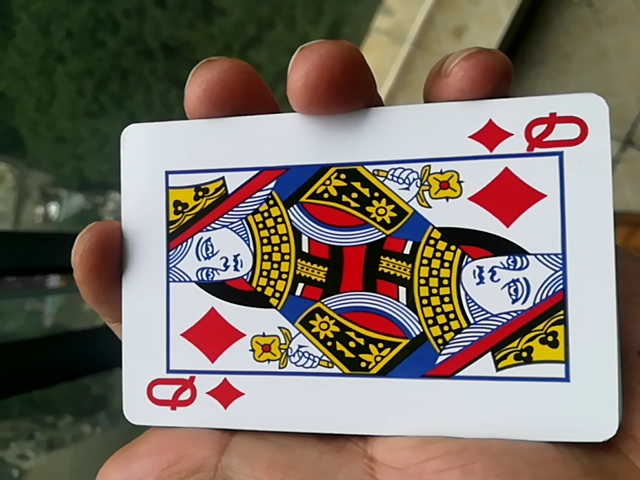fk q: (100, 104, 619, 447)
